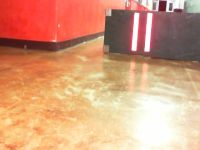switch: (144, 13, 153, 52), (131, 13, 140, 51)
